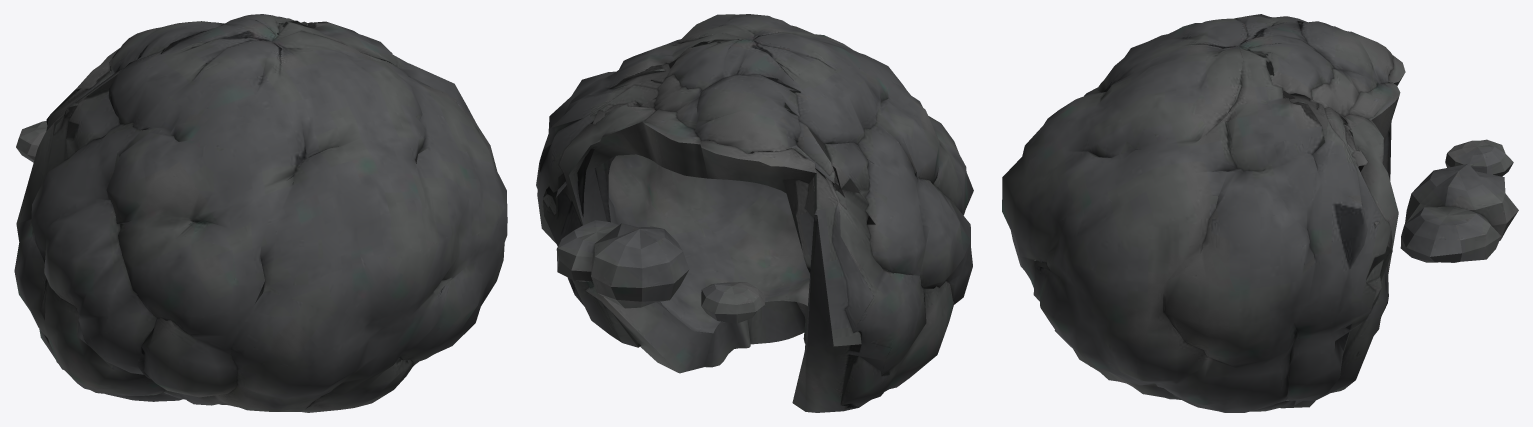
Rendered from miller_cave_den.glb.
3 views of the same model, side by side, from view 1: azimuth 30°, elevation 25°; view 2: azimuth 150°, elevation 25°; view 3: azimuth 270°, elevation 25° (orthographic). The views are drawn at different scales.
Parts seen in each view (by area): view 1: miller_cave_den_mesh; view 2: miller_cave_den_mesh; view 3: miller_cave_den_mesh.
Boxes of the visible parts, x1,y1,x2,y2 form: miller_cave_den_mesh: [14, 14, 507, 412]; miller_cave_den_mesh: [536, 14, 973, 412]; miller_cave_den_mesh: [1002, 14, 1518, 412].
Bounding box in the file's own units: 6.22 × 4.9 × 6.61.
Materials: 1 (1 with a texture image).
